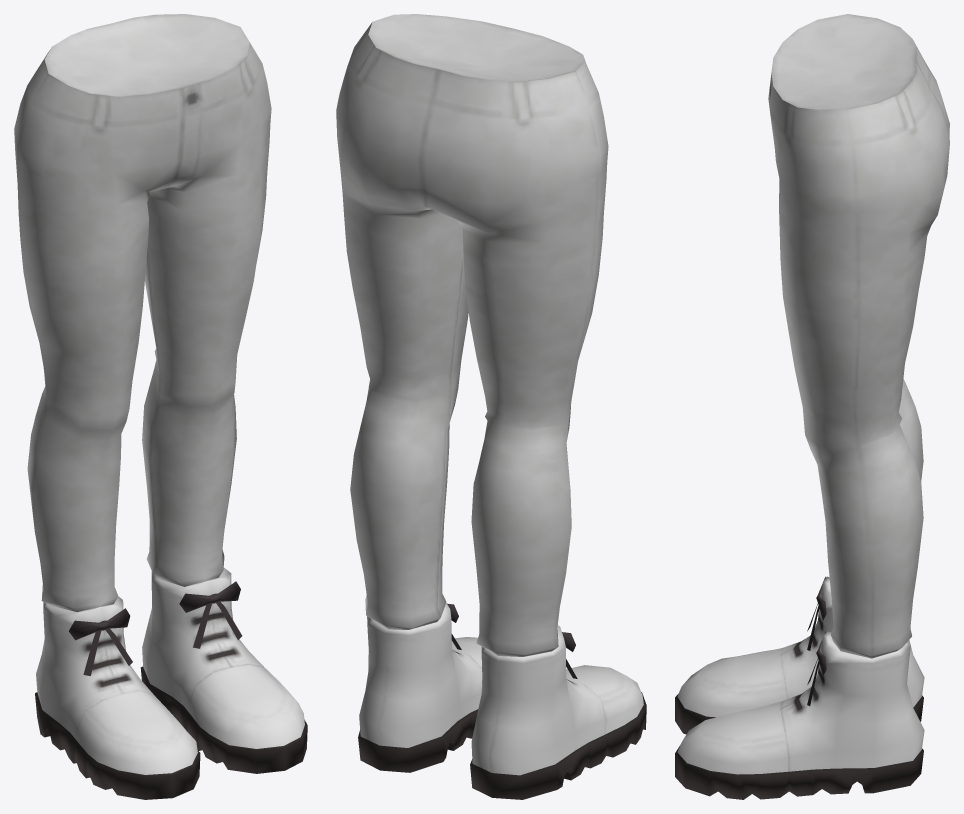
File: tr0790_00_lwb03.gltf
3 renders of one model, left to right at view 1: azimuth 30°, elevation 25°; view 2: azimuth 150°, elevation 25°; view 3: azimuth 270°, elevation 25°, orthographic. The views are drawn at different scales.
Parts seen in each view (by area): view 1: lwb03_lowerbody_mesh_shape:lowerbody04, lwb03_shoes_mesh_shape:lowerbody04; view 2: lwb03_lowerbody_mesh_shape:lowerbody04, lwb03_shoes_mesh_shape:lowerbody04; view 3: lwb03_lowerbody_mesh_shape:lowerbody04, lwb03_shoes_mesh_shape:lowerbody04.
Boxes of the visible parts, x1,y1,x2,y2 form: lwb03_lowerbody_mesh_shape:lowerbody04: (14,14,271,611); lwb03_shoes_mesh_shape:lowerbody04: (35,567,307,799); lwb03_lowerbody_mesh_shape:lowerbody04: (336,14,608,656); lwb03_shoes_mesh_shape:lowerbody04: (358,603,646,799); lwb03_lowerbody_mesh_shape:lowerbody04: (768,14,949,658); lwb03_shoes_mesh_shape:lowerbody04: (675,576,924,799).
Size of what is drawn, in the model's own units: 0.3564 by 0.9367 by 0.3382.
Materials: 1 (1 with a texture image).
